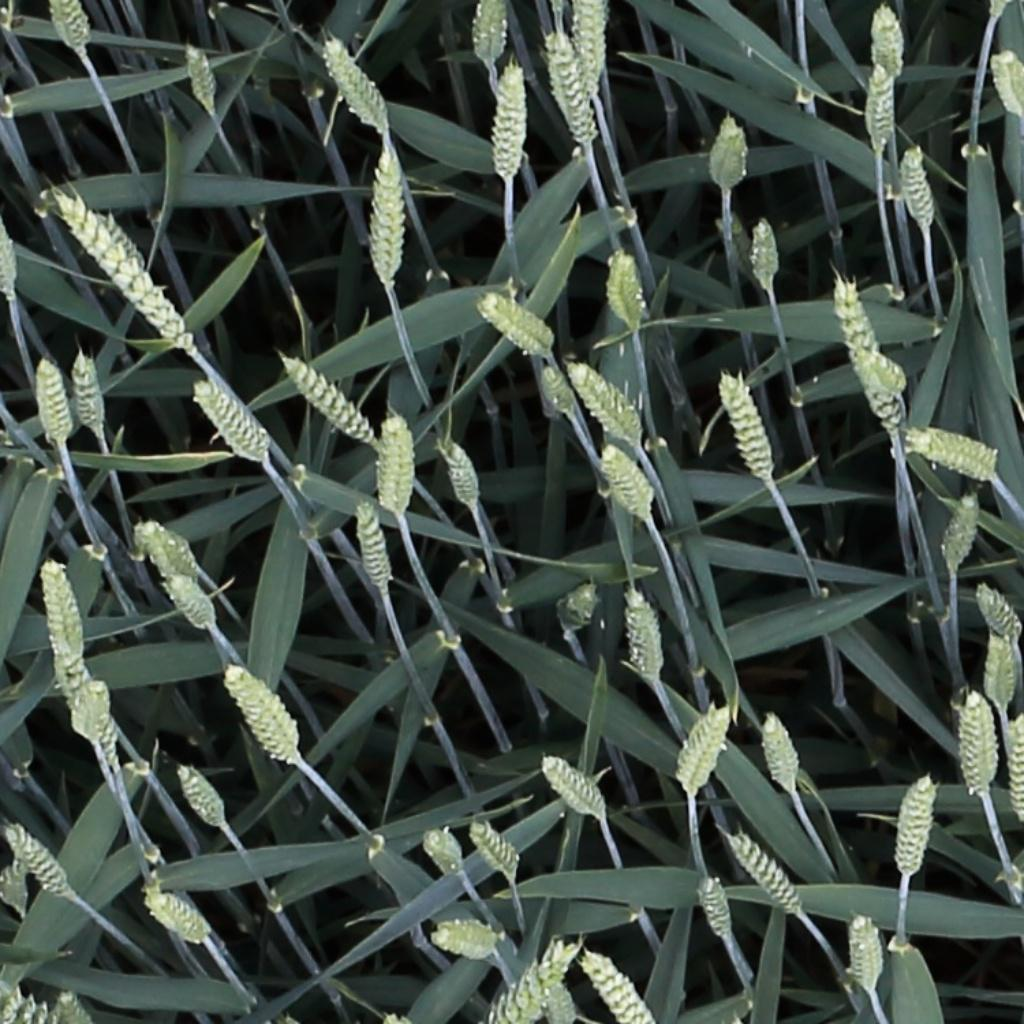0-0: (47, 181, 196, 351), (823, 267, 905, 430), (37, 552, 106, 738), (476, 934, 592, 1024), (278, 350, 378, 449), (45, 638, 125, 742), (222, 663, 303, 764), (541, 30, 606, 149), (323, 35, 397, 138), (355, 146, 411, 282), (729, 831, 808, 921), (900, 417, 1003, 486), (719, 367, 778, 484), (569, 357, 643, 447), (577, 948, 664, 1024), (193, 378, 270, 461), (6, 818, 82, 900), (950, 687, 1000, 800), (674, 701, 730, 799), (487, 55, 529, 180), (890, 773, 937, 882), (373, 412, 422, 511), (542, 756, 610, 824), (835, 906, 885, 998), (141, 882, 214, 945), (597, 443, 653, 524), (426, 912, 509, 966), (172, 760, 232, 832), (621, 585, 664, 684), (567, 0, 615, 86), (481, 297, 554, 352), (137, 518, 199, 581), (894, 139, 937, 228), (354, 495, 393, 593), (70, 345, 107, 447), (707, 113, 753, 195), (984, 629, 1022, 728), (34, 352, 73, 448), (862, 60, 901, 156), (466, 820, 522, 886), (938, 490, 981, 575), (606, 250, 650, 333), (438, 434, 484, 513), (863, 0, 905, 84), (972, 578, 1022, 647), (163, 571, 218, 632), (758, 708, 796, 795), (182, 39, 220, 115), (745, 209, 779, 293), (44, 0, 92, 58), (553, 581, 603, 636), (988, 46, 1024, 122), (539, 359, 582, 421), (700, 872, 737, 943), (472, 0, 508, 72), (423, 827, 468, 883), (1005, 715, 1024, 831), (0, 200, 19, 303), (545, 980, 576, 1024)
